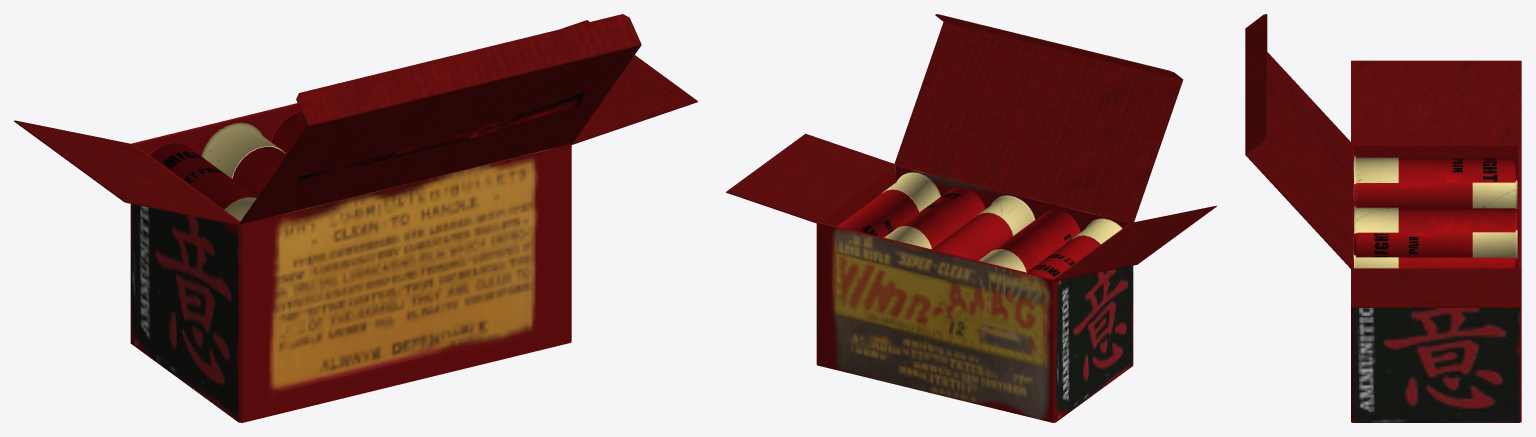
Rendered from ShotgunShell.obj.
3 renders of one model, left to right at view 1: azimuth 30°, elevation 25°; view 2: azimuth 150°, elevation 25°; view 3: azimuth 270°, elevation 25°, orthographic. The views are drawn at different scales.
Visible parts, largest first — view 1: BCap; view 2: BCap; view 3: BCap.
Part boxes in pixels (x1,y1,x2,y2): BCap: (14,14,697,422); BCap: (726,14,1216,422); BCap: (1245,14,1521,422).
Size of the model in its own units: 7.29 by 4.49 by 3.94.
